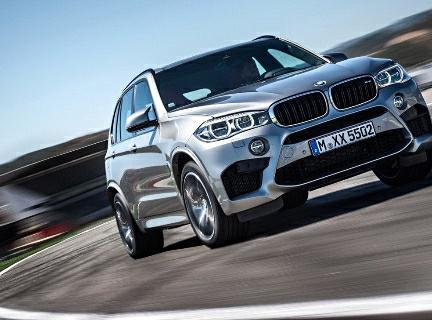宝马-X5M: (99, 30, 432, 266)
